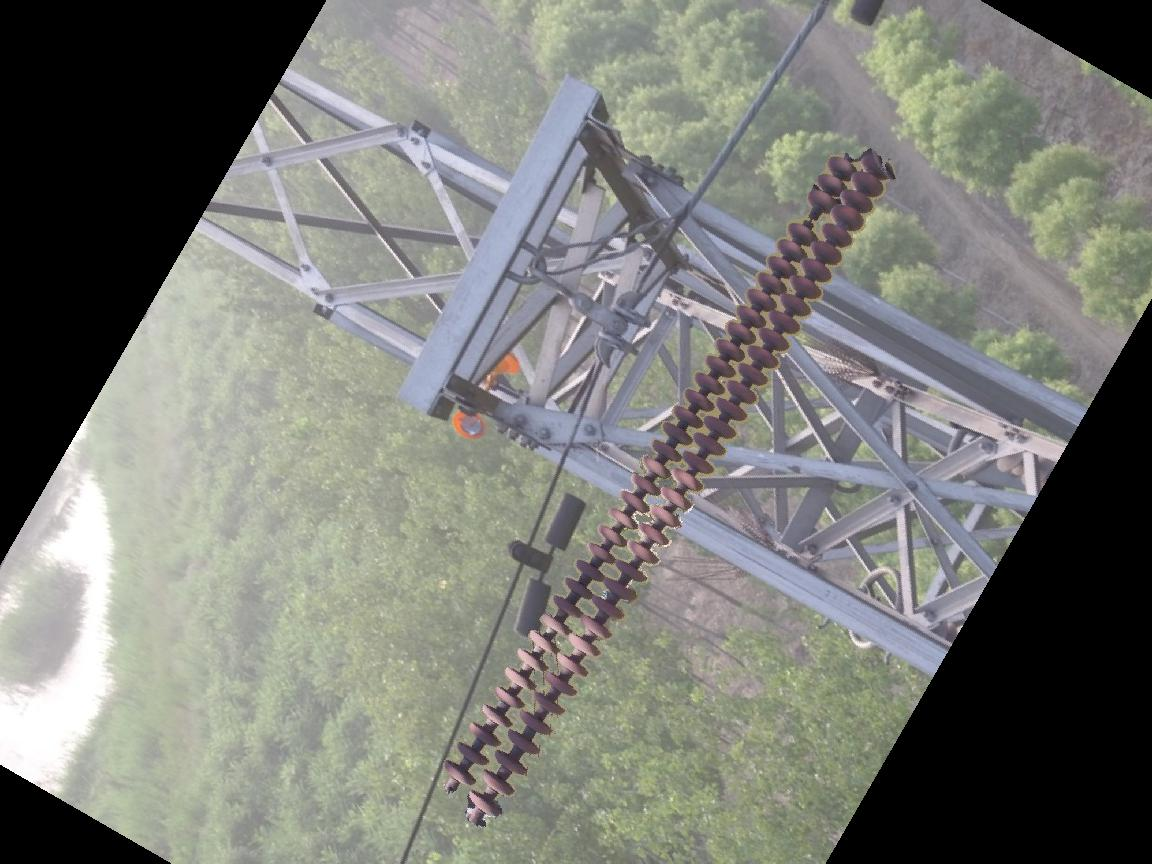insulator: (436, 149, 891, 828)
insulator_stringdrop: (785, 187, 841, 247)
